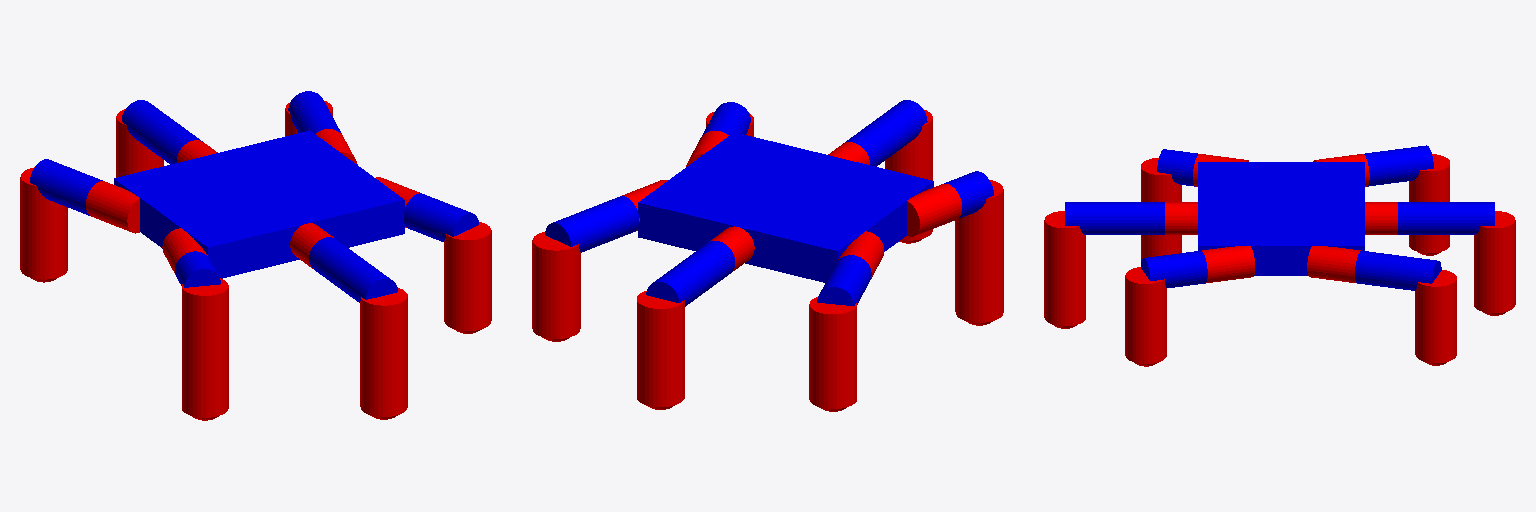
--- Render facts (derived) ---
The picture shows the robot from 3 angles, left to right: view 1: azimuth 30°, elevation 25°; view 2: azimuth 150°, elevation 25°; view 3: azimuth 270°, elevation 25°; orthographic projection.
Model pexod with 19 links and 18 joints (18 revolute), rooted at base_link, posed all joints at 0.
Visible links, largest first — view 1: base_link, leg_5_3, leg_4_3, leg_3_3, leg_0_3, leg_4_2, leg_1_2, leg_3_2, leg_0_2, leg_0_1, leg_1_3, leg_2_2 (+5 smaller); view 2: base_link, leg_5_3, leg_1_3, leg_0_3, leg_2_3, leg_2_2, leg_1_2, leg_4_2, leg_5_1, leg_0_2, leg_4_3, leg_5_2 (+5 smaller); view 3: base_link, leg_4_3, leg_1_3, leg_3_3, leg_2_3, leg_4_2, leg_1_2, leg_2_2, leg_0_3, leg_5_3, leg_0_2, leg_3_2 (+5 smaller).
Boxes of the visible links, left/top/right/bottom form: base_link: left=114, top=131, right=404, bottom=278; leg_5_3: left=182, top=278, right=228, bottom=420; leg_4_3: left=360, top=288, right=407, bottom=419; leg_3_3: left=444, top=222, right=491, bottom=333; leg_0_3: left=20, top=167, right=67, bottom=282; leg_4_2: left=309, top=237, right=397, bottom=302; leg_1_2: left=122, top=100, right=202, bottom=164; leg_3_2: left=403, top=193, right=478, bottom=241; leg_0_2: left=30, top=159, right=102, bottom=215; leg_0_1: left=86, top=181, right=139, bottom=233; leg_1_3: left=116, top=109, right=163, bottom=177; leg_2_2: left=288, top=91, right=341, bottom=133; base_link: left=638, top=132, right=933, bottom=282; leg_5_3: left=955, top=180, right=1003, bottom=325; leg_1_3: left=637, top=291, right=684, bottom=409; leg_0_3: left=809, top=297, right=856, bottom=411; leg_2_3: left=532, top=232, right=580, bottom=341; leg_2_2: left=545, top=196, right=638, bottom=252; leg_1_2: left=646, top=241, right=734, bottom=306; leg_4_2: left=843, top=100, right=927, bottom=166; leg_5_1: left=907, top=184, right=961, bottom=236; leg_0_2: left=817, top=255, right=871, bottom=305; leg_4_3: left=885, top=109, right=932, bottom=243; leg_5_2: left=944, top=171, right=993, bottom=218; base_link: left=1198, top=162, right=1364, bottom=275; leg_4_3: left=1044, top=211, right=1085, bottom=328; leg_1_3: left=1474, top=211, right=1515, bottom=315; leg_3_3: left=1125, top=267, right=1166, bottom=366; leg_2_3: left=1415, top=270, right=1456, bottom=365; leg_4_2: left=1065, top=202, right=1164, bottom=234; leg_1_2: left=1398, top=202, right=1494, bottom=234; leg_2_2: left=1355, top=251, right=1441, bottom=290; leg_0_3: left=1409, top=154, right=1449, bottom=255; leg_5_3: left=1141, top=158, right=1181, bottom=260; leg_0_2: left=1364, top=145, right=1433, bottom=186; leg_3_2: left=1141, top=251, right=1207, bottom=287.
Bounding box of the posed robot: 0.3777 × 0.5661 × 0.1747 m (x, y, z).
Geometry: primitives only (box / cylinder / sphere), no mesh files.

robot.urdf — pexod:
<?xml version="1.0" ?>
<!-- =================================================================================== -->
<!-- |    This document was autogenerated by xacro from pexod.xacro                    | -->
<!-- |    EDITING THIS FILE BY HAND IS NOT RECOMMENDED                                 | -->
<!-- =================================================================================== -->
<robot name="pexod" xmlns:xacro="http://www.ros.org/wiki/xacro">
  <!-- <xacro:include filename="$(find pexod_description)/urdf/pexod_control.xacro" /> -->
  <!-- MATERIALS -->
  <material name="Blue">
    <color rgba="0 0 1 1"/>
  </material>
  <material name="Red">
    <color rgba="1 0 0 1"/>
  </material>
  <material name="Green">
    <color rgba="0 1 0 1"/>
  </material>
  <material name="Yellow">
    <color rgba="1 1 0 1"/>
  </material>
  <material name="LightGrey">
    <color rgba="0.6 0.6 0.6 1.0"/>
  </material>
  <!-- END OF MATERIALS -->
  <!-- XACRO MACROS FOR VISUALS AND COLLISIONS -->
  <!-- END OF XACRO MACROS -->
  <!-- TORSO -->
  <link name="base_link">
    <visual>
      <origin rpy="0 0 0" xyz="0 0 0"/>
      <geometry>
        <box size="0.24 0.2 0.04"/>
      </geometry>
      <material name="Blue"/>
    </visual>
    <collision>
      <origin rpy="0 0 0" xyz="0 0 0"/>
      <geometry>
        <box size="0.24 0.2 0.04"/>
      </geometry>
    </collision>
    <inertial>
      <!-- CENTER OF MASS -->
      <origin rpy="0 0 0" xyz="0 0 0"/>
      <mass value="1.031"/>
      <!-- box inertia: 1/12*m(y^2+z^2), ... -->
      <inertia ixx="0.00357413333333" ixy="0" ixz="0" iyy="0.00508626666667" iyz="0" izz="0.00838546666667"/>
    </inertial>
  </link>
  <!-- XACRO MACRO FOR LEGS LINKS/JOINTS -->
  <!-- END OF LEG LINKS/JOINTS -->
  <joint name="body_leg_2" type="revolute">
    <parent link="base_link"/>
    <child link="leg_2_1"/>
    <limit effort="30.0" lower="-1.57079632679" upper="1.57079632679" velocity="7.0"/>
    <origin rpy="0 0 -0.3" xyz="0.11 0.04 0"/>
    <!-- <xacro:if value="${index == 5 or index == 4 or index == 3}">
                <axis xyz="0 0 1"/>
            </xacro:if>
            <xacro:if value="${index == 2 or index == 1 or index == 0}"> -->
    <axis xyz="0 0 1"/>
    <!-- </xacro:if> -->
    <dynamics damping="0.0"/>
  </joint>
  <link name="leg_2_1">
    <visual>
      <origin rpy="1.57079632679 0 0" xyz="0.01 0.03 0"/>
      <geometry>
        <cylinder length="0.06" radius="0.02"/>
      </geometry>
      <material name="Red"/>
    </visual>
    <collision>
      <origin rpy="1.57079632679 0 0" xyz="0.01 0.03 0"/>
      <geometry>
        <box size="0.02 0.02 0.06"/>
      </geometry>
    </collision>
    <inertial>
      <!-- CENTER OF MASS -->
      <origin rpy="1.57079632679 0 0" xyz="0.01 0.03 0"/>
      <mass value="0.02"/>
      <!-- box inertia: 1/12*m(y^2+z^2), ... -->
      <inertia ixx="6.66666666667e-06" ixy="0" ixz="0" iyy="6.66666666667e-06" iyz="0" izz="1.33333333333e-06"/>
    </inertial>
  </link>
  <joint name="leg_2_1_2" type="revolute">
    <parent link="leg_2_1"/>
    <child link="leg_2_2"/>
    <limit effort="30.0" lower="-0.78539816339" upper="0.78539816339" velocity="7.0"/>
    <origin rpy="0 0 0" xyz="0 0.06 0"/>
    <axis xyz="1 0 0"/>
    <dynamics damping="0.0"/>
  </joint>
  <link name="leg_2_2">
    <visual>
      <origin rpy="1.57079632679 0 0" xyz="0.01 0.0483965244797 0"/>
      <geometry>
        <cylinder length="0.0967930489595" radius="0.02"/>
      </geometry>
      <material name="Blue"/>
    </visual>
    <collision>
      <origin rpy="1.57079632679 0 0" xyz="0.01 0.0483965244797 0"/>
      <geometry>
        <box size="0.02 0.02 0.0967930489595"/>
      </geometry>
    </collision>
    <inertial>
      <!-- CENTER OF MASS -->
      <origin rpy="1.57079632679 0 0" xyz="0.01 0.0483965244797 0"/>
      <mass value="0.184"/>
      <!-- box inertia: 1/12*m(y^2+z^2), ... -->
      <inertia ixx="0.000149789713012" ixy="0" ixz="0" iyy="0.000149789713012" iyz="0" izz="1.22666666667e-05"/>
    </inertial>
  </link>
  <joint name="leg_2_2_3" type="revolute">
    <parent link="leg_2_2"/>
    <child link="leg_2_3"/>
    <limit effort="30.0" lower="-0.78539816339" upper="0.78539816339" velocity="7.0"/>
    <origin rpy="-1.57079632679 0 0" xyz="0 0.0967930489595 0"/>
    <axis xyz="-1 0 0"/>
    <dynamics damping="0.0"/>
  </joint>
  <link name="leg_2_3">
    <visual>
      <origin rpy="1.57079632679 0 0" xyz="0.0125 0.0507571826615 0"/>
      <geometry>
        <cylinder length="0.101514365323" radius="0.025"/>
      </geometry>
      <material name="Red"/>
    </visual>
    <visual>
      <origin rpy="1.57079632679 0 0" xyz="0.0125 0.089014365323 0"/>
      <geometry>
        <sphere radius="0.025"/>
      </geometry>
      <material name="Red"/>
    </visual>
    <collision>
      <origin rpy="1.57079632679 0 0" xyz="0.0125 0.0507571826615 0"/>
      <geometry>
        <box size="0.025 0.025 0.101514365323"/>
      </geometry>
    </collision>
    <collision>
      <origin rpy="1.57079632679 0 0" xyz="0.0125 0.089014365323 0"/>
      <geometry>
        <sphere radius="0.025"/>
      </geometry>
      <material name="Red"/>
    </collision>
    <inertial>
      <!-- CENTER OF MASS -->
      <origin rpy="1.57079632679 0 0" xyz="0.0125 0.0507571826615 0"/>
      <mass value="0.04"/>
      <!-- box inertia: 1/12*m(y^2+z^2), ... -->
      <inertia ixx="3.64338878898e-05" ixy="0" ixz="0" iyy="3.64338878898e-05" iyz="0" izz="4.16666666667e-06"/>
    </inertial>
  </link>
  <joint name="body_leg_3" type="revolute">
    <parent link="base_link"/>
    <child link="leg_3_1"/>
    <limit effort="30.0" lower="-1.57079632679" upper="1.57079632679" velocity="7.0"/>
    <origin rpy="0 0 0.3" xyz="0.11 -0.04 0"/>
    <!-- <xacro:if value="${index == 5 or index == 4 or index == 3}">
                <axis xyz="0 0 1"/>
            </xacro:if>
            <xacro:if value="${index == 2 or index == 1 or index == 0}"> -->
    <axis xyz="0 0 1"/>
    <!-- </xacro:if> -->
    <dynamics damping="0.0"/>
  </joint>
  <link name="leg_3_1">
    <visual>
      <origin rpy="1.57079632679 0 0" xyz="0.01 -0.03 0"/>
      <geometry>
        <cylinder length="0.06" radius="0.02"/>
      </geometry>
      <material name="Red"/>
    </visual>
    <collision>
      <origin rpy="1.57079632679 0 0" xyz="0.01 -0.03 0"/>
      <geometry>
        <box size="0.02 0.02 0.06"/>
      </geometry>
    </collision>
    <inertial>
      <!-- CENTER OF MASS -->
      <origin rpy="1.57079632679 0 0" xyz="0.01 -0.03 0"/>
      <mass value="0.02"/>
      <!-- box inertia: 1/12*m(y^2+z^2), ... -->
      <inertia ixx="6.66666666667e-06" ixy="0" ixz="0" iyy="6.66666666667e-06" iyz="0" izz="1.33333333333e-06"/>
    </inertial>
  </link>
  <joint name="leg_3_1_2" type="revolute">
    <parent link="leg_3_1"/>
    <child link="leg_3_2"/>
    <limit effort="30.0" lower="-0.78539816339" upper="0.78539816339" velocity="7.0"/>
    <origin rpy="0 0 0" xyz="0 -0.06 0"/>
    <axis xyz="-1 0 0"/>
    <dynamics damping="0.0"/>
  </joint>
  <link name="leg_3_2">
    <visual>
      <origin rpy="1.57079632679 0 0" xyz="0.01 -0.0359854909323 0"/>
      <geometry>
        <cylinder length="0.0719709818647" radius="0.02"/>
      </geometry>
      <material name="Blue"/>
    </visual>
    <collision>
      <origin rpy="1.57079632679 0 0" xyz="0.01 -0.0359854909323 0"/>
      <geometry>
        <box size="0.02 0.02 0.0719709818647"/>
      </geometry>
    </collision>
    <inertial>
      <!-- CENTER OF MASS -->
      <origin rpy="1.57079632679 0 0" xyz="0.01 -0.0359854909323 0"/>
      <mass value="0.184"/>
      <!-- box inertia: 1/12*m(y^2+z^2), ... -->
      <inertia ixx="8.55572742021e-05" ixy="0" ixz="0" iyy="8.55572742021e-05" iyz="0" izz="1.22666666667e-05"/>
    </inertial>
  </link>
  <joint name="leg_3_2_3" type="revolute">
    <parent link="leg_3_2"/>
    <child link="leg_3_3"/>
    <limit effort="30.0" lower="-0.78539816339" upper="0.78539816339" velocity="7.0"/>
    <origin rpy="1.57079632679 0 0" xyz="0 -0.0719709818647 0"/>
    <axis xyz="1 0 0"/>
    <dynamics damping="0.0"/>
  </joint>
  <link name="leg_3_3">
    <visual>
      <origin rpy="1.57079632679 0 0" xyz="0.0125 -0.0529671558475 0"/>
      <geometry>
        <cylinder length="0.105934311695" radius="0.025"/>
      </geometry>
      <material name="Red"/>
    </visual>
    <visual>
      <origin rpy="1.57079632679 0 0" xyz="0.0125 -0.093434311695 0"/>
      <geometry>
        <sphere radius="0.025"/>
      </geometry>
      <material name="Red"/>
    </visual>
    <collision>
      <origin rpy="1.57079632679 0 0" xyz="0.0125 -0.0529671558475 0"/>
      <geometry>
        <box size="0.025 0.025 0.105934311695"/>
      </geometry>
    </collision>
    <collision>
      <origin rpy="1.57079632679 0 0" xyz="0.0125 -0.093434311695 0"/>
      <geometry>
        <sphere radius="0.025"/>
      </geometry>
      <material name="Red"/>
    </collision>
    <inertial>
      <!-- CENTER OF MASS -->
      <origin rpy="1.57079632679 0 0" xyz="0.0125 -0.0529671558475 0"/>
      <mass value="0.04"/>
      <!-- box inertia: 1/12*m(y^2+z^2), ... -->
      <inertia ixx="3.94902613143e-05" ixy="0" ixz="0" iyy="3.94902613143e-05" iyz="0" izz="4.16666666667e-06"/>
    </inertial>
  </link>
  <joint name="body_leg_0" type="revolute">
    <parent link="base_link"/>
    <child link="leg_0_1"/>
    <limit effort="30.0" lower="-1.57079632679" upper="1.57079632679" velocity="7.0"/>
    <origin rpy="0 0 0.3" xyz="-0.13 0.04 0"/>
    <!-- <xacro:if value="${index == 5 or index == 4 or index == 3}">
                <axis xyz="0 0 1"/>
            </xacro:if>
            <xacro:if value="${index == 2 or index == 1 or index == 0}"> -->
    <axis xyz="0 0 1"/>
    <!-- </xacro:if> -->
    <dynamics damping="0.0"/>
  </joint>
  <link name="leg_0_1">
    <visual>
      <origin rpy="1.57079632679 0 0" xyz="0.01 0.03 0"/>
      <geometry>
        <cylinder length="0.06" radius="0.02"/>
      </geometry>
      <material name="Red"/>
    </visual>
    <collision>
      <origin rpy="1.57079632679 0 0" xyz="0.01 0.03 0"/>
      <geometry>
        <box size="0.02 0.02 0.06"/>
      </geometry>
    </collision>
    <inertial>
      <!-- CENTER OF MASS -->
      <origin rpy="1.57079632679 0 0" xyz="0.01 0.03 0"/>
      <mass value="0.02"/>
      <!-- box inertia: 1/12*m(y^2+z^2), ... -->
      <inertia ixx="6.66666666667e-06" ixy="0" ixz="0" iyy="6.66666666667e-06" iyz="0" izz="1.33333333333e-06"/>
    </inertial>
  </link>
  <joint name="leg_0_1_2" type="revolute">
    <parent link="leg_0_1"/>
    <child link="leg_0_2"/>
    <limit effort="30.0" lower="-0.78539816339" upper="0.78539816339" velocity="7.0"/>
    <origin rpy="0 0 0" xyz="0 0.06 0"/>
    <axis xyz="1 0 0"/>
    <dynamics damping="0.0"/>
  </joint>
  <link name="leg_0_2">
    <visual>
      <origin rpy="1.57079632679 0 0" xyz="0.01 0.0403780702183 0"/>
      <geometry>
        <cylinder length="0.0807561404365" radius="0.02"/>
      </geometry>
      <material name="Blue"/>
    </visual>
    <collision>
      <origin rpy="1.57079632679 0 0" xyz="0.01 0.0403780702183 0"/>
      <geometry>
        <box size="0.02 0.02 0.0807561404365"/>
      </geometry>
    </collision>
    <inertial>
      <!-- CENTER OF MASS -->
      <origin rpy="1.57079632679 0 0" xyz="0.01 0.0403780702183 0"/>
      <mass value="0.184"/>
      <!-- box inertia: 1/12*m(y^2+z^2), ... -->
      <inertia ixx="0.000106130498012" ixy="0" ixz="0" iyy="0.000106130498012" iyz="0" izz="1.22666666667e-05"/>
    </inertial>
  </link>
  <joint name="leg_0_2_3" type="revolute">
    <parent link="leg_0_2"/>
    <child link="leg_0_3"/>
    <limit effort="30.0" lower="-0.78539816339" upper="0.78539816339" velocity="7.0"/>
    <origin rpy="-1.57079632679 0 0" xyz="0 0.0807561404365 0"/>
    <axis xyz="-1 0 0"/>
    <dynamics damping="0.0"/>
  </joint>
  <link name="leg_0_3">
    <visual>
      <origin rpy="1.57079632679 0 0" xyz="0.0125 0.054307874622 0"/>
      <geometry>
        <cylinder length="0.108615749244" radius="0.025"/>
      </geometry>
      <material name="Red"/>
    </visual>
    <visual>
      <origin rpy="1.57079632679 0 0" xyz="0.0125 0.096115749244 0"/>
      <geometry>
        <sphere radius="0.025"/>
      </geometry>
      <material name="Red"/>
    </visual>
    <collision>
      <origin rpy="1.57079632679 0 0" xyz="0.0125 0.054307874622 0"/>
      <geometry>
        <box size="0.025 0.025 0.108615749244"/>
      </geometry>
    </collision>
    <collision>
      <origin rpy="1.57079632679 0 0" xyz="0.0125 0.096115749244 0"/>
      <geometry>
        <sphere radius="0.025"/>
      </geometry>
      <material name="Red"/>
    </collision>
    <inertial>
      <!-- CENTER OF MASS -->
      <origin rpy="1.57079632679 0 0" xyz="0.0125 0.054307874622 0"/>
      <mass value="0.04"/>
      <!-- box inertia: 1/12*m(y^2+z^2), ... -->
      <inertia ixx="4.14079366128e-05" ixy="0" ixz="0" iyy="4.14079366128e-05" iyz="0" izz="4.16666666667e-06"/>
    </inertial>
  </link>
  <joint name="body_leg_5" type="revolute">
    <parent link="base_link"/>
    <child link="leg_5_1"/>
    <limit effort="30.0" lower="-1.57079632679" upper="1.57079632679" velocity="7.0"/>
    <origin rpy="0 0 -0.3" xyz="-0.13 -0.04 0"/>
    <!-- <xacro:if value="${index == 5 or index == 4 or index == 3}">
                <axis xyz="0 0 1"/>
            </xacro:if>
            <xacro:if value="${index == 2 or index == 1 or index == 0}"> -->
    <axis xyz="0 0 1"/>
    <!-- </xacro:if> -->
    <dynamics damping="0.0"/>
  </joint>
  <link name="leg_5_1">
    <visual>
      <origin rpy="1.57079632679 0 0" xyz="0.01 -0.03 0"/>
      <geometry>
        <cylinder length="0.06" radius="0.02"/>
      </geometry>
      <material name="Red"/>
    </visual>
    <collision>
      <origin rpy="1.57079632679 0 0" xyz="0.01 -0.03 0"/>
      <geometry>
        <box size="0.02 0.02 0.06"/>
      </geometry>
    </collision>
    <inertial>
      <!-- CENTER OF MASS -->
      <origin rpy="1.57079632679 0 0" xyz="0.01 -0.03 0"/>
      <mass value="0.02"/>
      <!-- box inertia: 1/12*m(y^2+z^2), ... -->
      <inertia ixx="6.66666666667e-06" ixy="0" ixz="0" iyy="6.66666666667e-06" iyz="0" izz="1.33333333333e-06"/>
    </inertial>
  </link>
  <joint name="leg_5_1_2" type="revolute">
    <parent link="leg_5_1"/>
    <child link="leg_5_2"/>
    <limit effort="30.0" lower="-0.78539816339" upper="0.78539816339" velocity="7.0"/>
    <origin rpy="0 0 0" xyz="0 -0.06 0"/>
    <axis xyz="-1 0 0"/>
    <dynamics damping="0.0"/>
  </joint>
  <link name="leg_5_2">
    <visual>
      <origin rpy="1.57079632679 0 0" xyz="0.01 -0.0225109124808 0"/>
      <geometry>
        <cylinder length="0.0450218249617" radius="0.02"/>
      </geometry>
      <material name="Blue"/>
    </visual>
    <collision>
      <origin rpy="1.57079632679 0 0" xyz="0.01 -0.0225109124808 0"/>
      <geometry>
        <box size="0.02 0.02 0.0450218249617"/>
      </geometry>
    </collision>
    <inertial>
      <!-- CENTER OF MASS -->
      <origin rpy="1.57079632679 0 0" xyz="0.01 -0.0225109124808 0"/>
      <mass value="0.184"/>
      <!-- box inertia: 1/12*m(y^2+z^2), ... -->
      <inertia ixx="3.72134590842e-05" ixy="0" ixz="0" iyy="3.72134590842e-05" iyz="0" izz="1.22666666667e-05"/>
    </inertial>
  </link>
  <joint name="leg_5_2_3" type="revolute">
    <parent link="leg_5_2"/>
    <child link="leg_5_3"/>
    <limit effort="30.0" lower="-0.78539816339" upper="0.78539816339" velocity="7.0"/>
    <origin rpy="1.57079632679 0 0" xyz="0 -0.0450218249617 0"/>
    <axis xyz="1 0 0"/>
    <dynamics damping="0.0"/>
  </joint>
  <link name="leg_5_3">
    <visual>
      <origin rpy="1.57079632679 0 0" xyz="0.0125 -0.071093449814 0"/>
      <geometry>
        <cylinder length="0.142186899628" radius="0.025"/>
      </geometry>
      <material name="Red"/>
    </visual>
    <visual>
      <origin rpy="1.57079632679 0 0" xyz="0.0125 -0.129686899628 0"/>
      <geometry>
        <sphere radius="0.025"/>
      </geometry>
      <material name="Red"/>
    </visual>
    <collision>
      <origin rpy="1.57079632679 0 0" xyz="0.0125 -0.071093449814 0"/>
      <geometry>
        <box size="0.025 0.025 0.142186899628"/>
      </geometry>
    </collision>
    <collision>
      <origin rpy="1.57079632679 0 0" xyz="0.0125 -0.129686899628 0"/>
      <geometry>
        <sphere radius="0.025"/>
      </geometry>
      <material name="Red"/>
    </collision>
    <inertial>
      <!-- CENTER OF MASS -->
      <origin rpy="1.57079632679 0 0" xyz="0.0125 -0.071093449814 0"/>
      <mass value="0.04"/>
      <!-- box inertia: 1/12*m(y^2+z^2), ... -->
      <inertia ixx="6.94737147527e-05" ixy="0" ixz="0" iyy="6.94737147527e-05" iyz="0" izz="4.16666666667e-06"/>
    </inertial>
  </link>
  <joint name="body_leg_1" type="revolute">
    <parent link="base_link"/>
    <child link="leg_1_1"/>
    <limit effort="30.0" lower="-1.57079632679" upper="1.57079632679" velocity="7.0"/>
    <origin rpy="0 0 0" xyz="-0.01 0.08 0"/>
    <!-- <xacro:if value="${index == 5 or index == 4 or index == 3}">
                <axis xyz="0 0 1"/>
            </xacro:if>
            <xacro:if value="${index == 2 or index == 1 or index == 0}"> -->
    <axis xyz="0 0 1"/>
    <!-- </xacro:if> -->
    <dynamics damping="0.0"/>
  </joint>
  <link name="leg_1_1">
    <visual>
      <origin rpy="1.57079632679 0 0" xyz="0.01 0.03 0"/>
      <geometry>
        <cylinder length="0.06" radius="0.02"/>
      </geometry>
      <material name="Red"/>
    </visual>
    <collision>
      <origin rpy="1.57079632679 0 0" xyz="0.01 0.03 0"/>
      <geometry>
        <box size="0.02 0.02 0.06"/>
      </geometry>
    </collision>
    <inertial>
      <!-- CENTER OF MASS -->
      <origin rpy="1.57079632679 0 0" xyz="0.01 0.03 0"/>
      <mass value="0.02"/>
      <!-- box inertia: 1/12*m(y^2+z^2), ... -->
      <inertia ixx="6.66666666667e-06" ixy="0" ixz="0" iyy="6.66666666667e-06" iyz="0" izz="1.33333333333e-06"/>
    </inertial>
  </link>
  <joint name="leg_1_1_2" type="revolute">
    <parent link="leg_1_1"/>
    <child link="leg_1_2"/>
    <limit effort="30.0" lower="-0.78539816339" upper="0.78539816339" velocity="7.0"/>
    <origin rpy="0 0 0" xyz="0 0.06 0"/>
    <axis xyz="1 0 0"/>
    <dynamics damping="0.0"/>
  </joint>
  <link name="leg_1_2">
    <visual>
      <origin rpy="1.57079632679 0 0" xyz="0.01 0.058233248939 0"/>
      <geometry>
        <cylinder length="0.116466497878" radius="0.02"/>
      </geometry>
      <material name="Blue"/>
    </visual>
    <collision>
      <origin rpy="1.57079632679 0 0" xyz="0.01 0.058233248939 0"/>
      <geometry>
        <box size="0.02 0.02 0.116466497878"/>
      </geometry>
    </collision>
    <inertial>
      <!-- CENTER OF MASS -->
      <origin rpy="1.57079632679 0 0" xyz="0.01 0.058233248939 0"/>
      <mass value="0.184"/>
      <!-- box inertia: 1/12*m(y^2+z^2), ... -->
      <inertia ixx="0.000214121491962" ixy="0" ixz="0" iyy="0.000214121491962" iyz="0" izz="1.22666666667e-05"/>
    </inertial>
  </link>
  <joint name="leg_1_2_3" type="revolute">
    <parent link="leg_1_2"/>
    <child link="leg_1_3"/>
    <limit effort="30.0" lower="-0.78539816339" upper="0.78539816339" velocity="7.0"/>
    <origin rpy="-1.57079632679 0 0" xyz="0 0.116466497878 0"/>
    <axis xyz="-1 0 0"/>
    <dynamics damping="0.0"/>
  </joint>
  <link name="leg_1_3">
    <visual>
      <origin rpy="1.57079632679 0 0" xyz="0.0125 0.0563487934715 0"/>
      <geometry>
        <cylinder length="0.112697586943" radius="0.025"/>
      </geometry>
      <material name="Red"/>
    </visual>
    <visual>
      <origin rpy="1.57079632679 0 0" xyz="0.0125 0.100197586943 0"/>
      <geometry>
        <sphere radius="0.025"/>
      </geometry>
      <material name="Red"/>
    </visual>
    <collision>
      <origin rpy="1.57079632679 0 0" xyz="0.0125 0.0563487934715 0"/>
      <geometry>
        <box size="0.025 0.025 0.112697586943"/>
      </geometry>
    </collision>
    <collision>
      <origin rpy="1.57079632679 0 0" xyz="0.0125 0.100197586943 0"/>
      <geometry>
        <sphere radius="0.025"/>
      </geometry>
      <material name="Red"/>
    </collision>
    <inertial>
      <!-- CENTER OF MASS -->
      <origin rpy="1.57079632679 0 0" xyz="0.0125 0.0563487934715 0"/>
      <mass value="0.04"/>
      <!-- box inertia: 1/12*m(y^2+z^2), ... -->
      <inertia ixx="4.44191536759e-05" ixy="0" ixz="0" iyy="4.44191536759e-05" iyz="0" izz="4.16666666667e-06"/>
    </inertial>
  </link>
  <joint name="body_leg_4" type="revolute">
    <parent link="base_link"/>
    <child link="leg_4_1"/>
    <limit effort="30.0" lower="-1.57079632679" upper="1.57079632679" velocity="7.0"/>
    <origin rpy="0 0 0" xyz="-0.01 -0.08 0"/>
    <!-- <xacro:if value="${index == 5 or index == 4 or index == 3}">
                <axis xyz="0 0 1"/>
            </xacro:if>
            <xacro:if value="${index == 2 or index == 1 or index == 0}"> -->
    <axis xyz="0 0 1"/>
    <!-- </xacro:if> -->
    <dynamics damping="0.0"/>
  </joint>
  <link name="leg_4_1">
    <visual>
      <origin rpy="1.57079632679 0 0" xyz="0.01 -0.03 0"/>
      <geometry>
        <cylinder length="0.06" radius="0.02"/>
      </geometry>
      <material name="Red"/>
    </visual>
    <collision>
      <origin rpy="1.57079632679 0 0" xyz="0.01 -0.03 0"/>
      <geometry>
        <box size="0.02 0.02 0.06"/>
      </geometry>
    </collision>
    <inertial>
      <!-- CENTER OF MASS -->
      <origin rpy="1.57079632679 0 0" xyz="0.01 -0.03 0"/>
      <mass value="0.02"/>
      <!-- box inertia: 1/12*m(y^2+z^2), ... -->
      <inertia ixx="6.66666666667e-06" ixy="0" ixz="0" iyy="6.66666666667e-06" iyz="0" izz="1.33333333333e-06"/>
    </inertial>
  </link>
  <joint name="leg_4_1_2" type="revolute">
    <parent link="leg_4_1"/>
    <child link="leg_4_2"/>
    <limit effort="30.0" lower="-0.78539816339" upper="0.78539816339" velocity="7.0"/>
    <origin rpy="0 0 0" xyz="0 -0.06 0"/>
    <axis xyz="-1 0 0"/>
    <dynamics damping="0.0"/>
  </joint>
  <link name="leg_4_2">
    <visual>
      <origin rpy="1.57079632679 0 0" xyz="0.01 -0.0598125154165 0"/>
      <geometry>
        <cylinder length="0.119625030833" radius="0.02"/>
      </geometry>
      <material name="Blue"/>
    </visual>
    <collision>
      <origin rpy="1.57079632679 0 0" xyz="0.01 -0.0598125154165 0"/>
      <geometry>
        <box size="0.02 0.02 0.119625030833"/>
      </geometry>
    </collision>
    <inertial>
      <!-- CENTER OF MASS -->
      <origin rpy="1.57079632679 0 0" xyz="0.01 -0.0598125154165 0"/>
      <mass value="0.184"/>
      <!-- box inertia: 1/12*m(y^2+z^2), ... -->
      <inertia ixx="0.000225555602694" ixy="0" ixz="0" iyy="0.000225555602694" iyz="0" izz="1.22666666667e-05"/>
    </inertial>
  </link>
  <joint name="leg_4_2_3" type="revolute">
    <parent link="leg_4_2"/>
    <child link="leg_4_3"/>
    <limit effort="30.0" lower="-0.78539816339" upper="0.78539816339" velocity="7.0"/>
    <origin rpy="1.57079632679 0 0" xyz="0 -0.119625030833 0"/>
    <axis xyz="1 0 0"/>
    <dynamics damping="0.0"/>
  </joint>
  <link name="leg_4_3">
    <visual>
      <origin rpy="1.57079632679 0 0" xyz="0.0125 -0.064973484169 0"/>
      <geometry>
        <cylinder length="0.129946968338" radius="0.025"/>
      </geometry>
      <material name="Red"/>
    </visual>
    <visual>
      <origin rpy="1.57079632679 0 0" xyz="0.0125 -0.117446968338 0"/>
      <geometry>
        <sphere radius="0.025"/>
      </geometry>
      <material name="Red"/>
    </visual>
    <collision>
      <origin rpy="1.57079632679 0 0" xyz="0.0125 -0.064973484169 0"/>
      <geometry>
        <box size="0.025 0.025 0.129946968338"/>
      </geometry>
    </collision>
    <collision>
      <origin rpy="1.57079632679 0 0" xyz="0.0125 -0.117446968338 0"/>
      <geometry>
        <sphere radius="0.025"/>
      </geometry>
      <material name="Red"/>
    </collision>
    <inertial>
      <!-- CENTER OF MASS -->
      <origin rpy="1.57079632679 0 0" xyz="0.0125 -0.064973484169 0"/>
      <mass value="0.04"/>
      <!-- box inertia: 1/12*m(y^2+z^2), ... -->
      <inertia ixx="5.83707152675e-05" ixy="0" ixz="0" iyy="5.83707152675e-05" iyz="0" izz="4.16666666667e-06"/>
    </inertial>
  </link>
  <!-- END OF LEG LINKS/JOINTS -->
</robot>
